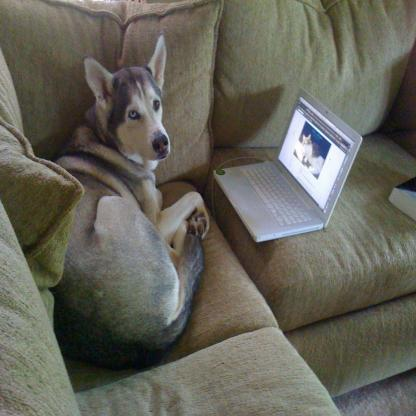board: (214, 88, 364, 244)
